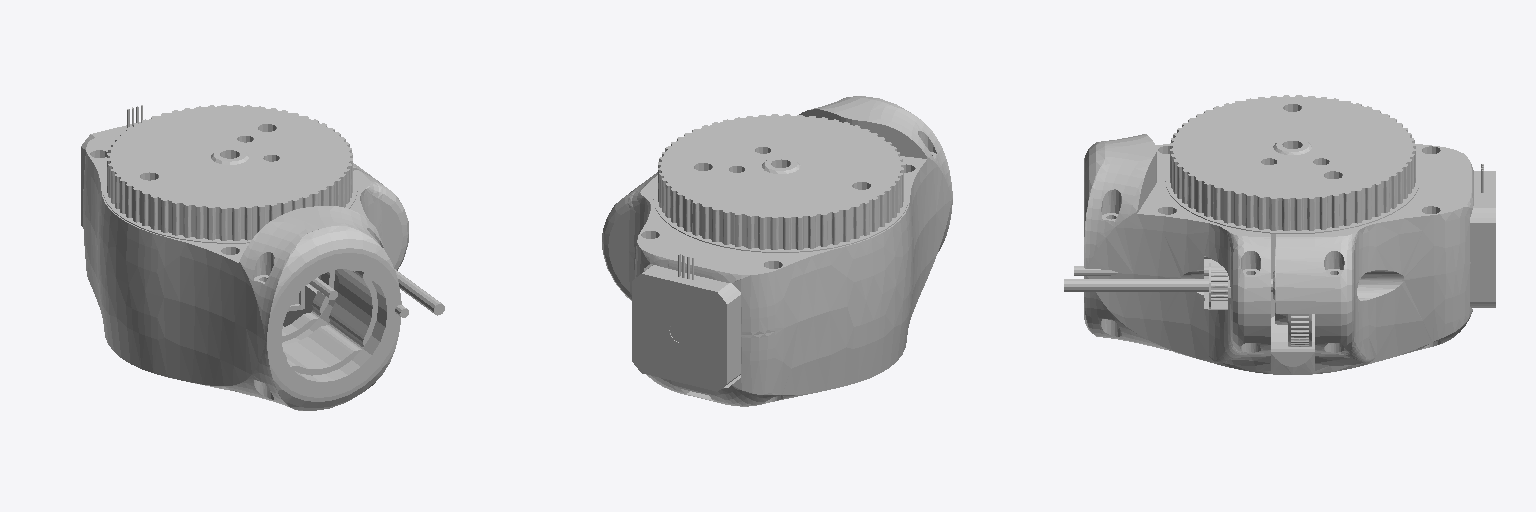
The picture shows the model from 3 angles: view 1: azimuth 30°, elevation 25°; view 2: azimuth 150°, elevation 25°; view 3: azimuth 270°, elevation 25°; orthographic projection.
Visible parts, largest first — view 1: Z_Forearm.001; view 2: Z_Forearm.001; view 3: Z_Forearm.001.
Boxes of the visible parts, x1=… form: Z_Forearm.001: x1=81, y1=105, x2=444, y2=410; Z_Forearm.001: x1=602, y1=96, x2=952, y2=406; Z_Forearm.001: x1=1064, y1=95, x2=1495, y2=374.
Size of the model in its own units: 11.88 by 8.6 by 16.57.